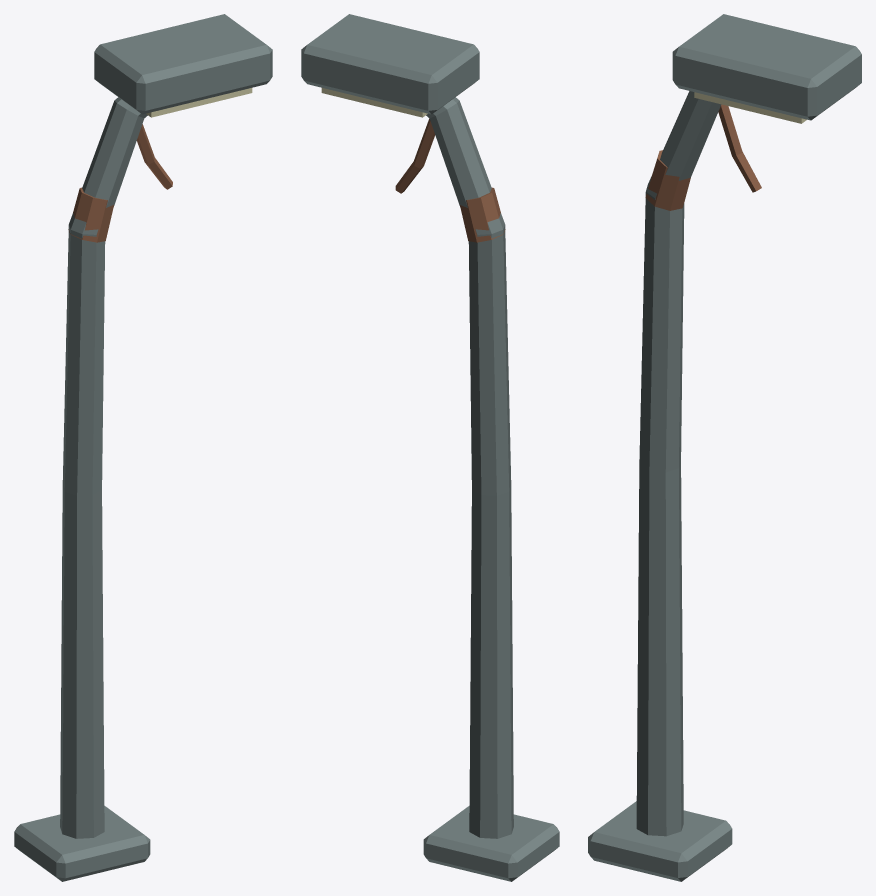
Rendered from 001_broken_streetlamp.glb.
The picture shows the model from 3 angles, left to right: view 1: azimuth 30°, elevation 25°; view 2: azimuth 150°, elevation 25°; view 3: azimuth 330°, elevation 25°; orthographic projection. The views are drawn at different scales.
Parts seen in each view (by area): view 1: PRP_Bent_pole, PRP_Lamp_housing, PRP_Base_plate, PRP_Rust_band, PRP_Broken_cable, PRP_Lamp_glass; view 2: PRP_Bent_pole, PRP_Lamp_housing, PRP_Base_plate, PRP_Rust_band, PRP_Broken_cable, PRP_Lamp_glass; view 3: PRP_Bent_pole, PRP_Lamp_housing, PRP_Base_plate, PRP_Rust_band, PRP_Broken_cable, PRP_Lamp_glass.
Boxes of the visible parts, x1,y1,x2,y2 form: PRP_Bent_pole: (60,97,147,838); PRP_Lamp_housing: (94,14,272,114); PRP_Base_plate: (14,805,150,881); PRP_Rust_band: (68,187,113,242); PRP_Broken_cable: (136,124,172,189); PRP_Lamp_glass: (146,88,252,117); PRP_Bent_pole: (426,97,513,838); PRP_Lamp_housing: (301,14,479,114); PRP_Base_plate: (423,805,559,881); PRP_Rust_band: (460,187,505,242); PRP_Broken_cable: (395,118,434,193); PRP_Lamp_glass: (321,88,427,117); PRP_Bent_pole: (636,91,721,836); PRP_Lamp_housing: (672,14,861,120); PRP_Base_plate: (588,801,732,881); PRP_Rust_band: (645,150,690,210); PRP_Broken_cable: (718,104,761,192); PRP_Lamp_glass: (694,92,806,123).
Bounding box in the file's own units: 0.92 × 3.2 × 0.36.
